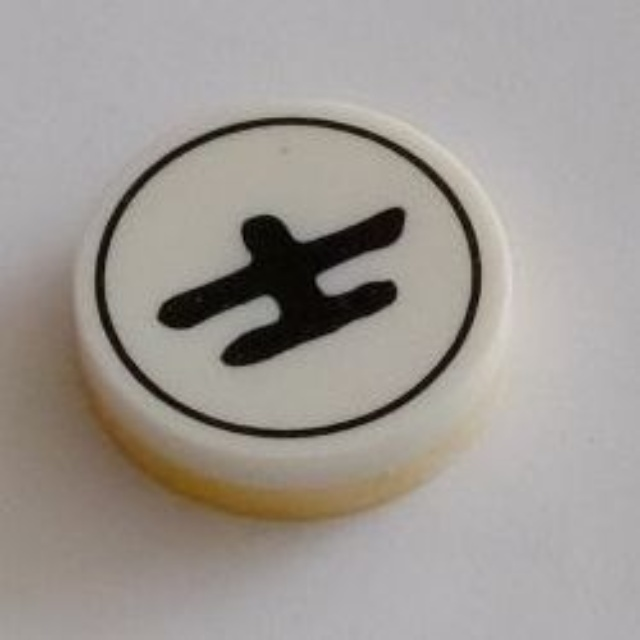black_si: (66, 95, 525, 525)
